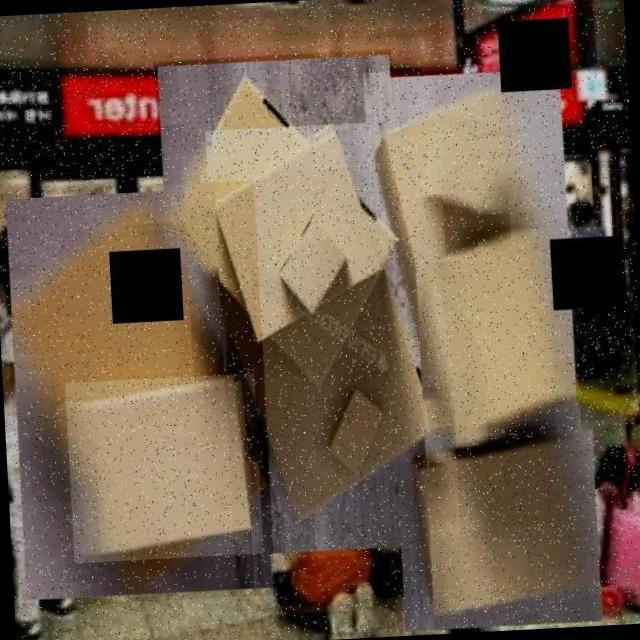box: (1, 180, 276, 608), (200, 163, 446, 562), (153, 49, 409, 410), (363, 62, 582, 464), (205, 122, 384, 368), (393, 429, 604, 635), (65, 373, 264, 564), (436, 223, 581, 448), (256, 208, 364, 334), (411, 107, 519, 228), (306, 382, 397, 480)
